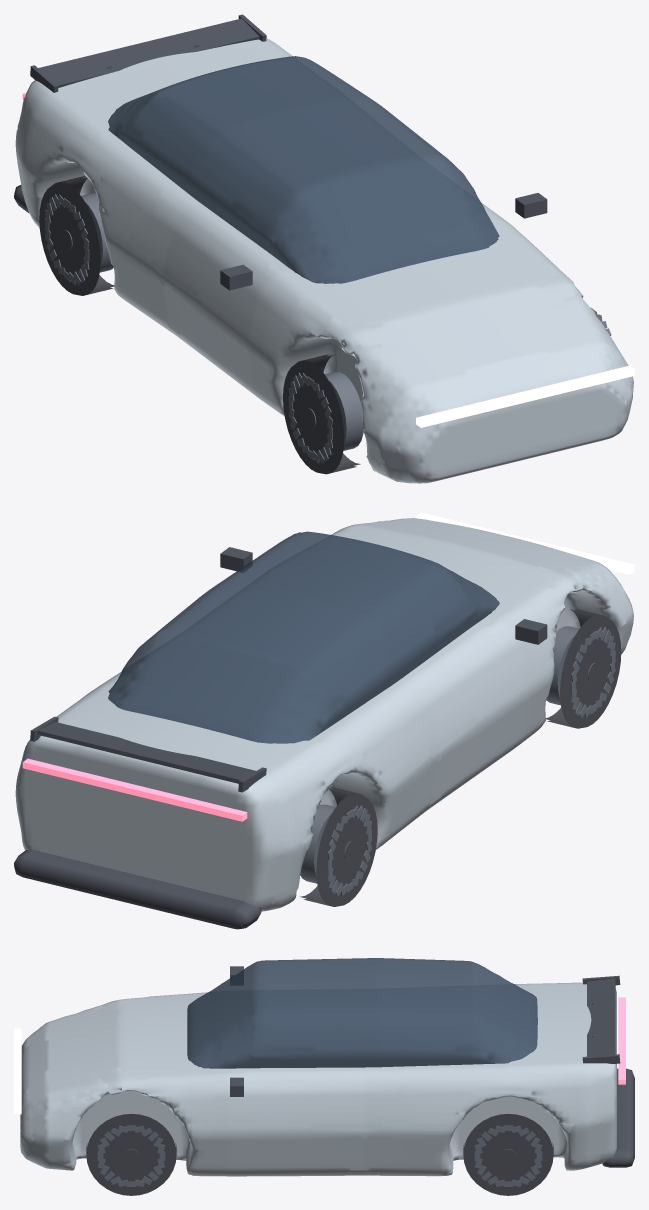
The model's file is zephyr_emotion.glb.
The picture shows the model from 3 angles, top to bottom: view 1: azimuth 30°, elevation 25°; view 2: azimuth 150°, elevation 25°; view 3: azimuth 270°, elevation 25°; orthographic projection. The views are drawn at different scales.
Visible parts, largest first — view 1: Bodywork, CanopyGlass, TireRubber, CarbonAero (×2), ForgedRim, HeadlightLED; view 2: Bodywork, CanopyGlass, CarbonAero (×3), TireRubber, ForgedRim, TaillightLED, HeadlightLED; view 3: Bodywork, CanopyGlass, TireRubber, CarbonAero (×3), ForgedRim, HeadlightLED, TaillightLED.
Boxes of the visible parts, x1=… form: Bodywork: x1=15, y1=38, x2=633, y2=483; CanopyGlass: x1=108, y1=56, x2=499, y2=283; TireRubber: x1=39, y1=175, x2=360, y2=474; CarbonAero (×2): x1=30, y1=14, x2=547, y2=290; ForgedRim: x1=45, y1=193, x2=611, y2=463; HeadlightLED: x1=416, y1=365, x2=634, y2=427; Bodywork: x1=15, y1=518, x2=633, y2=911; CanopyGlass: x1=108, y1=531, x2=499, y2=743; CarbonAero (×3): x1=14, y1=547, x2=547, y2=929; TireRubber: x1=300, y1=608, x2=621, y2=906; ForgedRim: x1=300, y1=626, x2=615, y2=896; TaillightLED: x1=22, y1=758, x2=247, y2=821; HeadlightLED: x1=416, y1=512, x2=634, y2=574; Bodywork: x1=20, y1=982, x2=616, y2=1176; CanopyGlass: x1=187, y1=958, x2=537, y2=1068; TireRubber: x1=86, y1=1113, x2=553, y2=1195; CarbonAero (×3): x1=230, y1=966, x2=634, y2=1167; ForgedRim: x1=97, y1=1125, x2=542, y2=1186; HeadlightLED: x1=14, y1=1028, x2=21, y2=1114; TaillightLED: x1=618, y1=997, x2=625, y2=1084.
Size of the model in its own units: 2.2 by 1.41 by 4.81.
